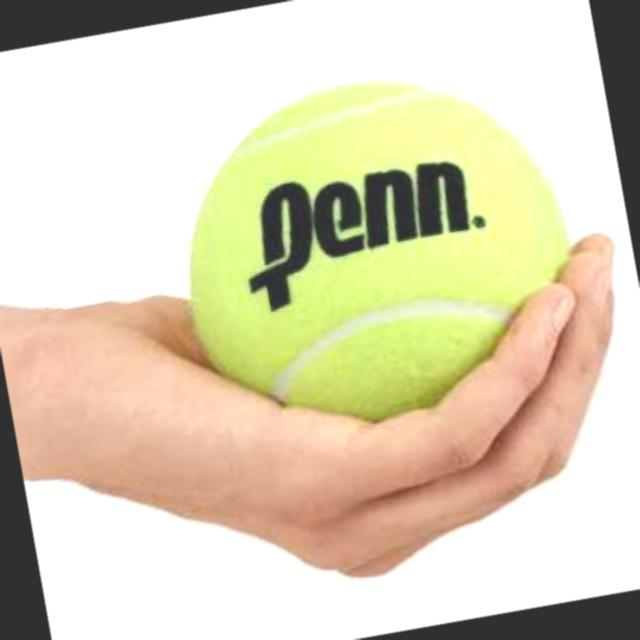Tennis Ball: (187, 78, 572, 424)
